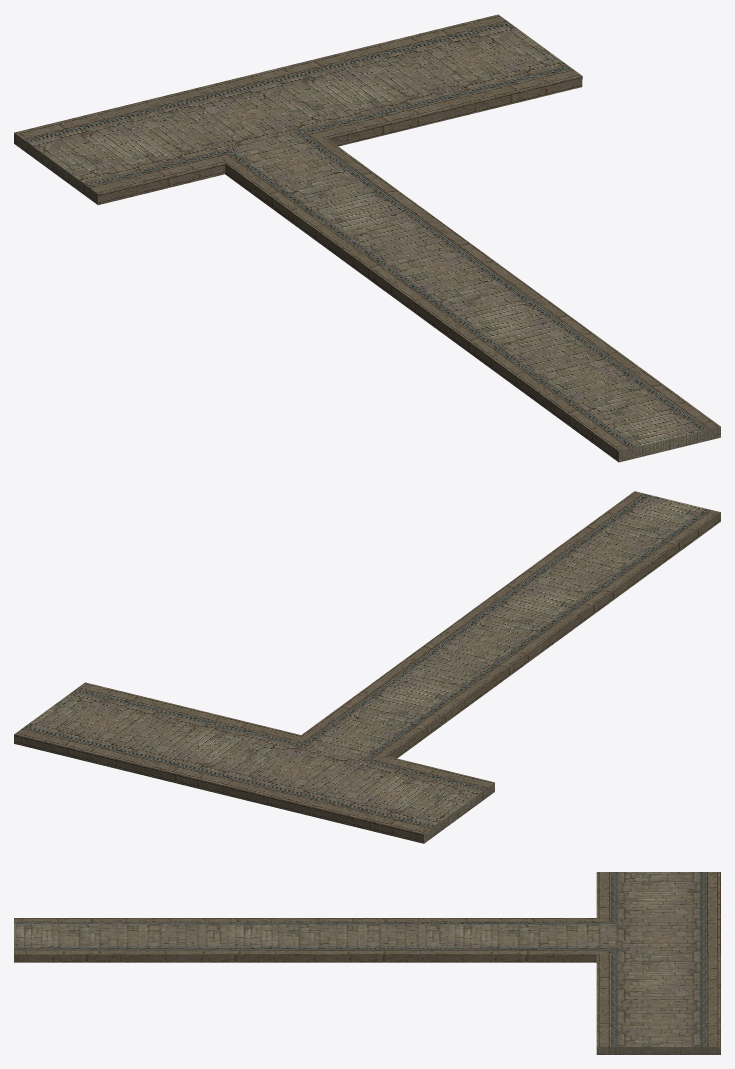
Rendered from d_lianqi_dimian01f_jz.FBX.
3 views of the same model, one above another, from view 1: azimuth 30°, elevation 25°; view 2: azimuth 150°, elevation 25°; view 3: azimuth 270°, elevation 25° (orthographic). The views are drawn at different scales.
Visible parts, largest first — view 1: d_lianqi_dimian01f_jz_01A; view 2: d_lianqi_dimian01f_jz_01A; view 3: d_lianqi_dimian01f_jz_01A.
Boxes of the visible parts, x1,y1,x2,y2 form: d_lianqi_dimian01f_jz_01A: (14,14,720,462); d_lianqi_dimian01f_jz_01A: (14,491,720,843); d_lianqi_dimian01f_jz_01A: (14,872,720,1054).
Bounding box in the file's own units: 1236 × 26.92 × 2113.
1 material, 1 textured.
